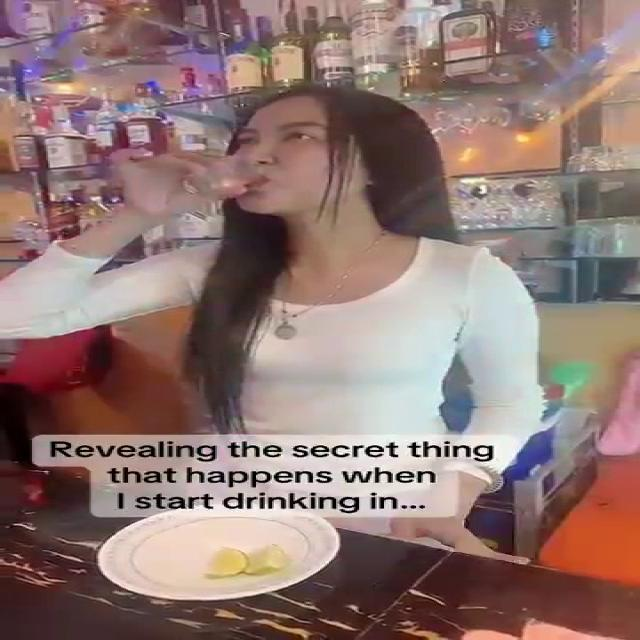Cup: (181, 157, 264, 197)
Hand: (102, 144, 252, 222)
Mouth: (230, 172, 286, 188)
